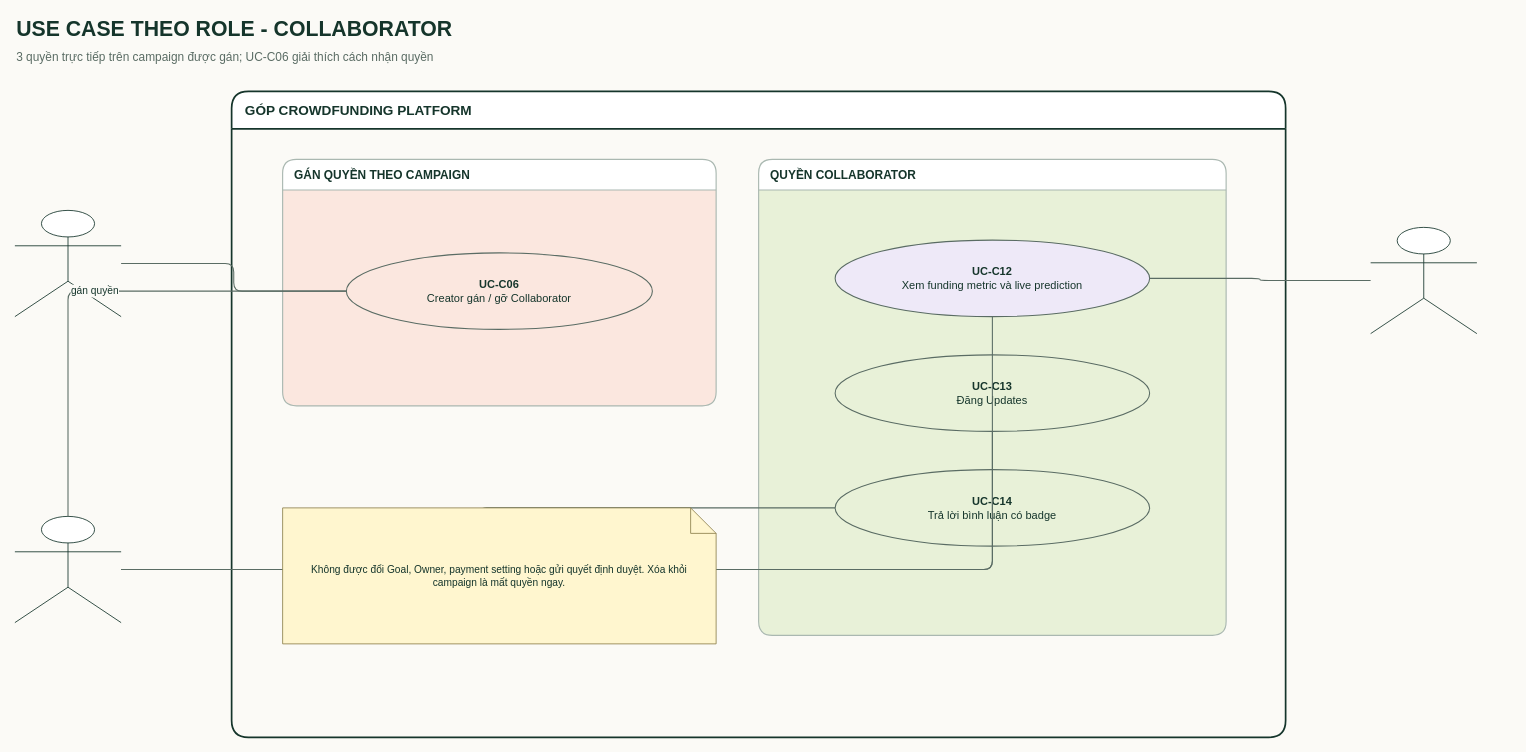
This 1526x752 diagram has some shape labels left out. The shapes that lost their labels are listed below. From the top down, each one's centre as x and y in pixels, then its label:
At point 67,263: "Creator (Owner)".
At point 1423,280: "Success Prediction Service".
At point 67,569: "Collaborator".
